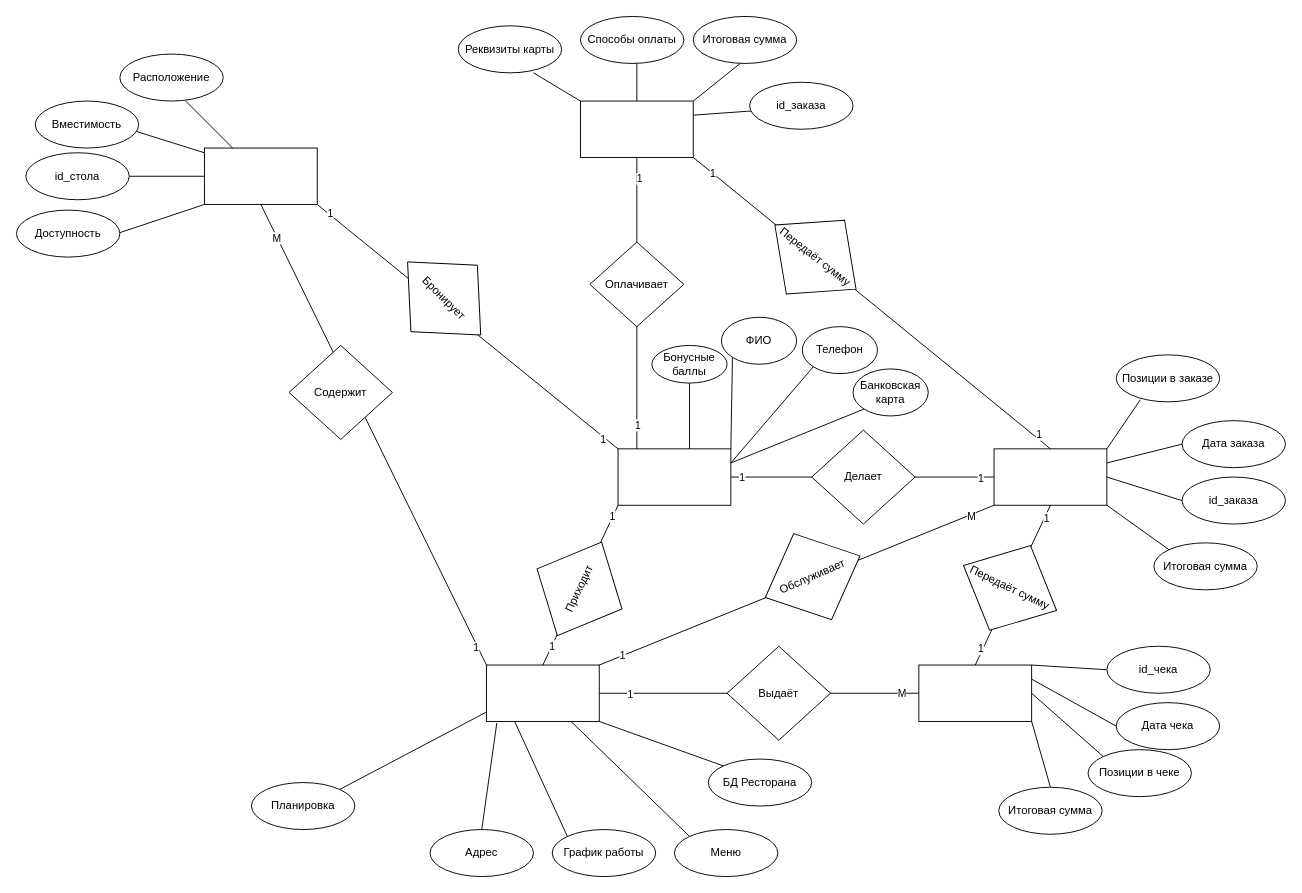
Image size: 1302x893. Some labels were removed from this diagram. The shapes that lost their labels are listed below. From the top down, each one's centre as x and y in pixels, then its label:
[636,128]: Платёжная система
[260,175]: Стол
[674,476]: Клиент
[1050,476]: Заказ
[542,692]: Ресторан
[975,692]: Чек
